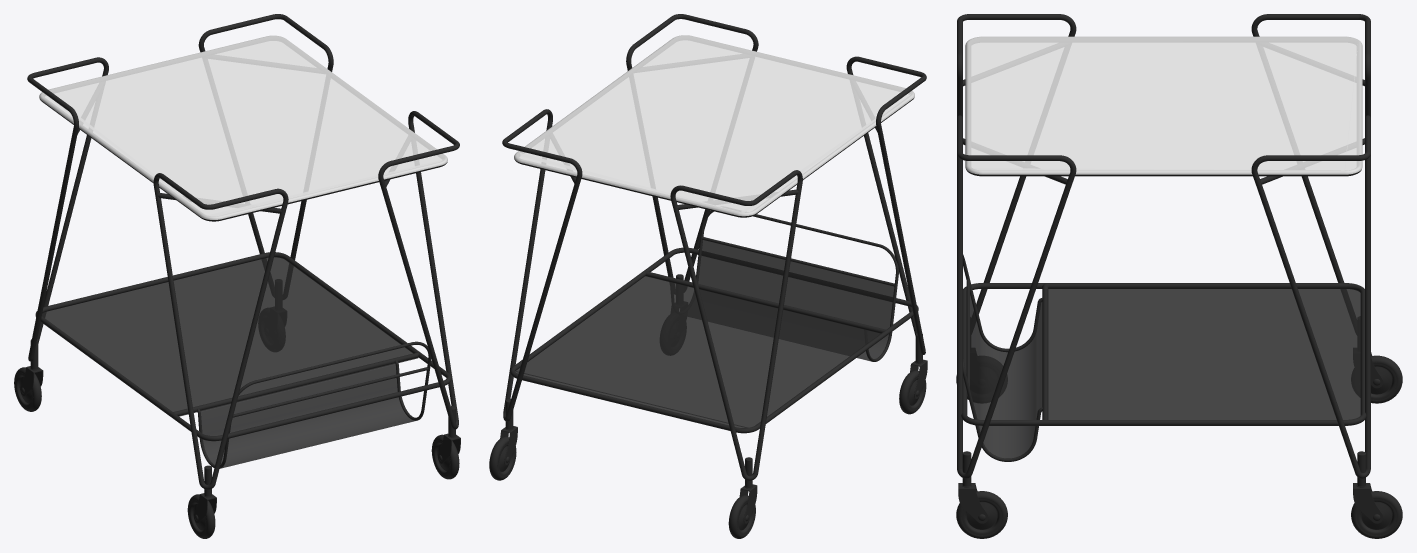
Rendered from mategot_trolley.gltf.
3 views of the same model, side by side, from view 1: azimuth 30°, elevation 25°; view 2: azimuth 150°, elevation 25°; view 3: azimuth 270°, elevation 25° (orthographic). The views are drawn at different scales.
Parts seen in each view (by area): view 1: Gubi_Mategot_Trolley_mat1 (×2); view 2: Gubi_Mategot_Trolley_mat1 (×2); view 3: Gubi_Mategot_Trolley_mat1 (×2).
Boxes of the visible parts, x1=… form: Gubi_Mategot_Trolley_mat1 (×2): x1=14, y1=14, x2=460, y2=538; Gubi_Mategot_Trolley_mat1 (×2): x1=489, y1=14, x2=927, y2=538; Gubi_Mategot_Trolley_mat1 (×2): x1=956, y1=14, x2=1402, y2=538.
Size of the model in its own units: 0.575 by 0.72 by 0.7552.
2 materials, 2 textured.
